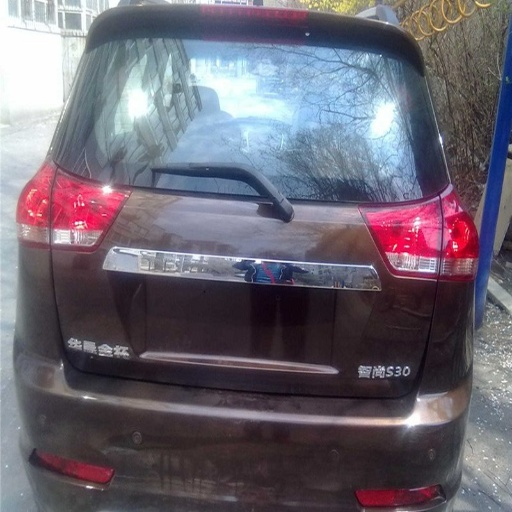_background_: (406, 281, 444, 397)
back_bumper: (13, 251, 475, 506)
tailgate: (62, 325, 210, 381), (290, 344, 422, 399)
